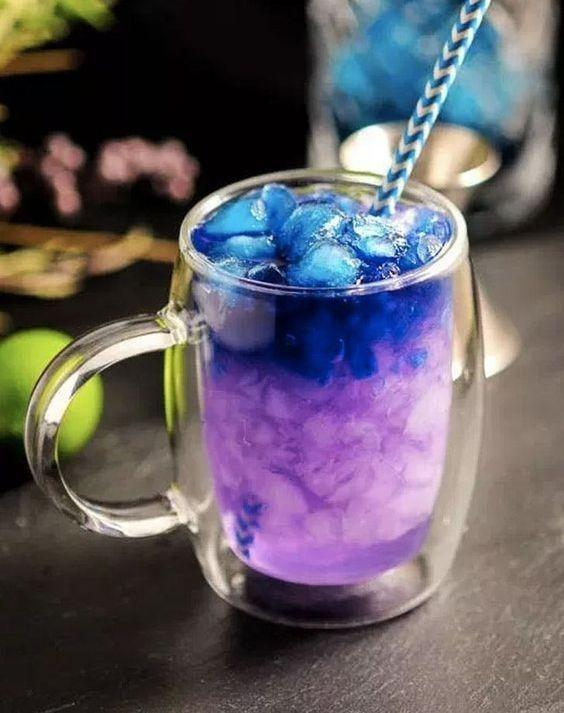glass-mug: (22, 166, 492, 639)
